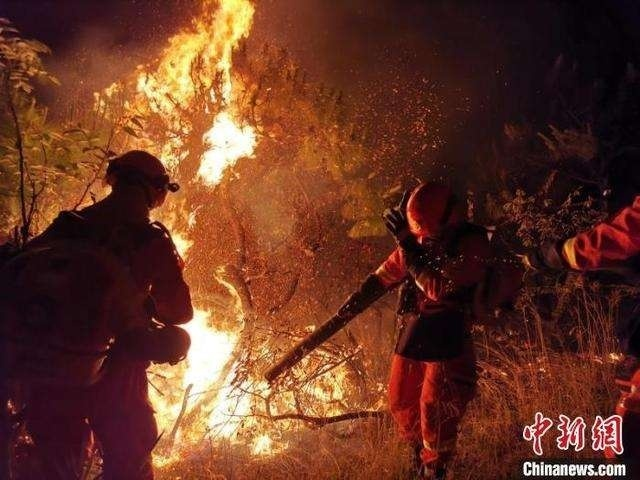fire: (146, 288, 350, 463), (96, 0, 260, 183)
